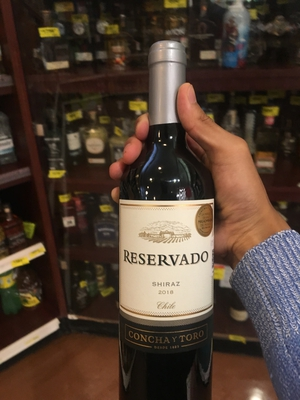reservado shiraz: (112, 42, 225, 395)
